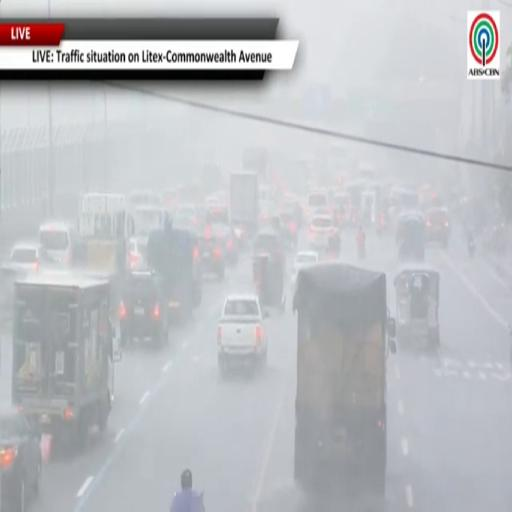car: (0, 407, 42, 510), (218, 294, 267, 374), (119, 270, 169, 346), (3, 243, 54, 278), (39, 221, 77, 266), (205, 223, 239, 265), (199, 227, 226, 279), (426, 207, 450, 247), (308, 215, 336, 249), (291, 251, 319, 285), (279, 210, 297, 248), (307, 189, 329, 218), (206, 196, 229, 223), (174, 204, 198, 229), (129, 237, 147, 270)
motorcycle: (468, 239, 476, 257), (358, 244, 365, 260)
truck: (293, 263, 396, 497), (12, 271, 121, 445), (75, 194, 134, 308), (147, 221, 202, 322), (230, 171, 259, 234), (242, 147, 269, 181)
